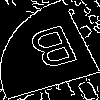B: (24, 25, 86, 79)
